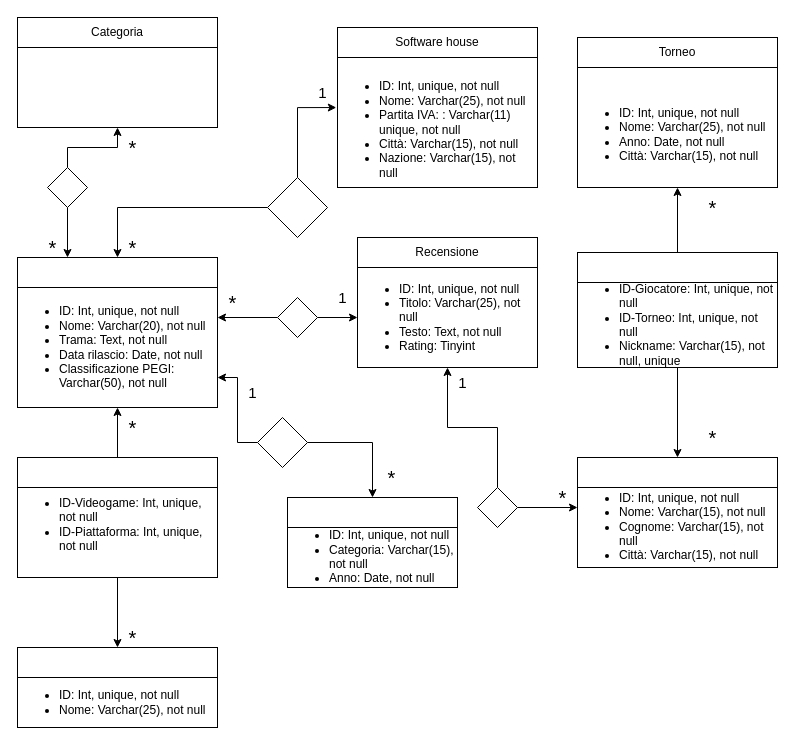
Image size: 795x746. Some labels were removed from this diagram. The centre of each missing label's shape, as x and y in pixels:
"Giocatore" goes at (677,472).
"Giocatore - Torneo (Bridge)" goes at (677,267).
"ID: Int, unique, not null Nome Categoria: Varchar(15), not null" goes at (117,87).
"Piattaforma" goes at (117,662).
"Premio" goes at (372,512).
"Videogame" goes at (117,272).
"Videogame - Piattaforma (Bridge)" goes at (117,472).
